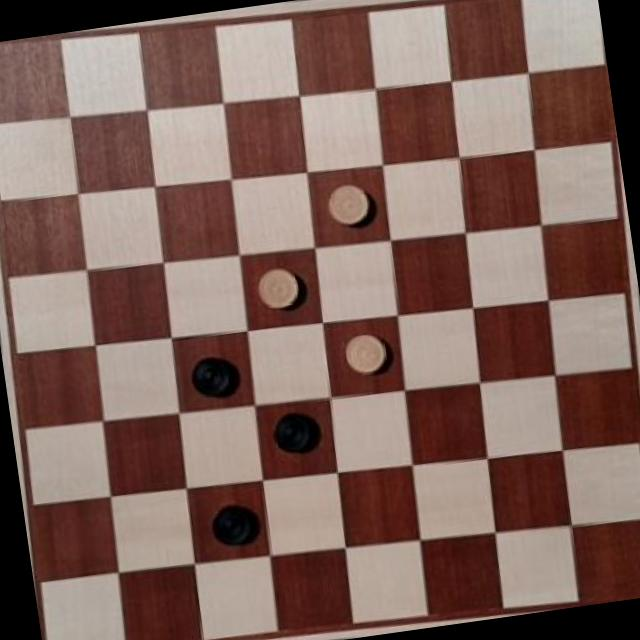BOARD: (0, 0, 640, 640)
black: (181, 336, 246, 413), (198, 489, 267, 561), (266, 406, 328, 461)
white: (318, 177, 376, 236), (250, 261, 312, 316), (336, 324, 392, 384)
